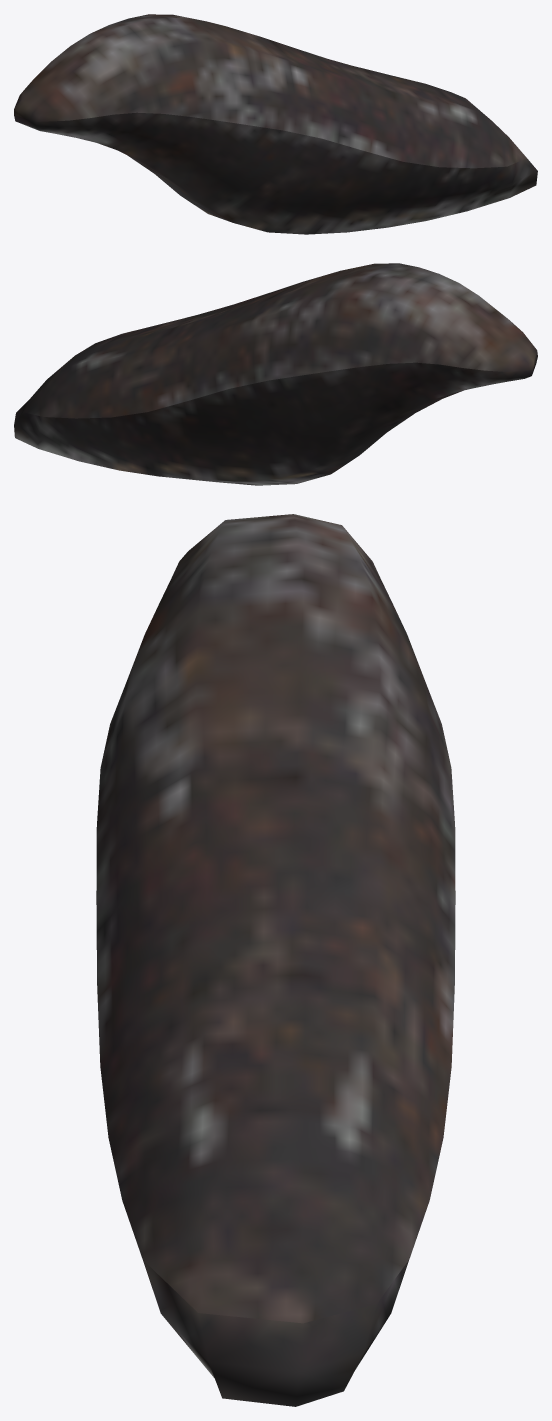
File: wm_dol_goldur_1h_sword_a02_guard.fbx
3 views of the same model, one above another, from view 1: azimuth 30°, elevation 25°; view 2: azimuth 150°, elevation 25°; view 3: azimuth 270°, elevation 25° (orthographic). The views are drawn at different scales.
Parts seen in each view (by area): view 1: wm_dol_goldur_1h_sword_a02_guard; view 2: wm_dol_goldur_1h_sword_a02_guard; view 3: wm_dol_goldur_1h_sword_a02_guard.
Part boxes in pixels (<box>): wm_dol_goldur_1h_sword_a02_guard: <box>14,14,537,234</box>; wm_dol_goldur_1h_sword_a02_guard: <box>14,263,537,485</box>; wm_dol_goldur_1h_sword_a02_guard: <box>96,514,455,1406</box>.
Bounding box in the file's own units: 0.0961 × 0.0292 × 0.0452.
Materials: 1 (1 with a texture image).
